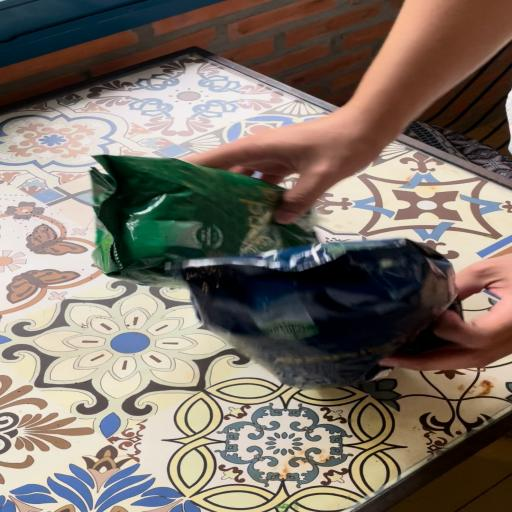cafe_hat: (182, 239, 461, 389)
cafe_xay: (90, 155, 316, 285)
